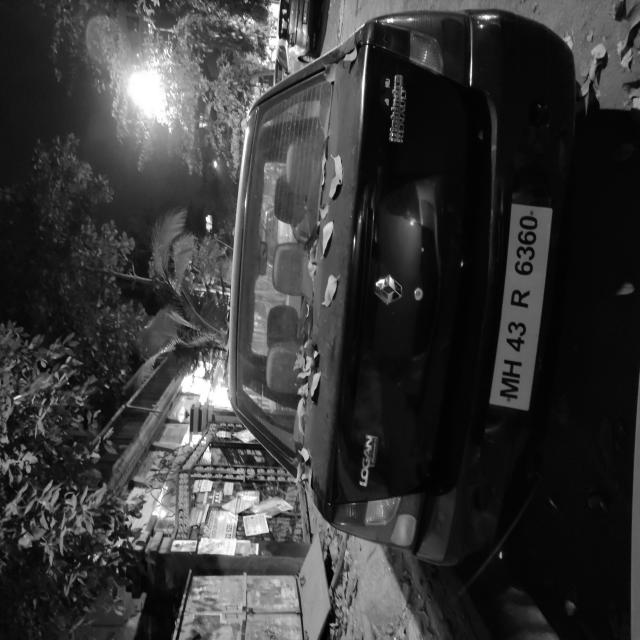car: (45, 292, 477, 640)
